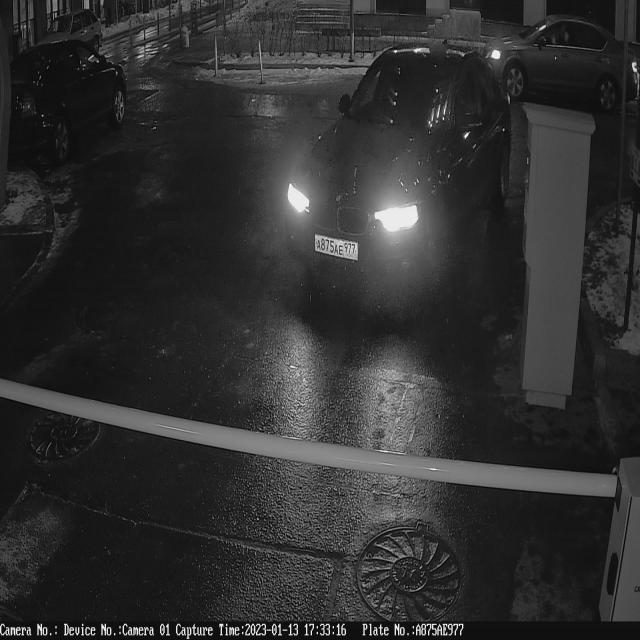car-plate-numbers: (314, 228, 360, 267)
